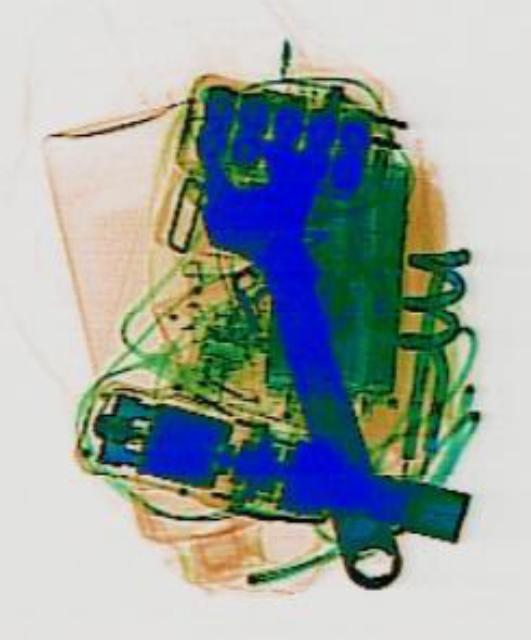Wrench: (183, 119, 428, 607)
